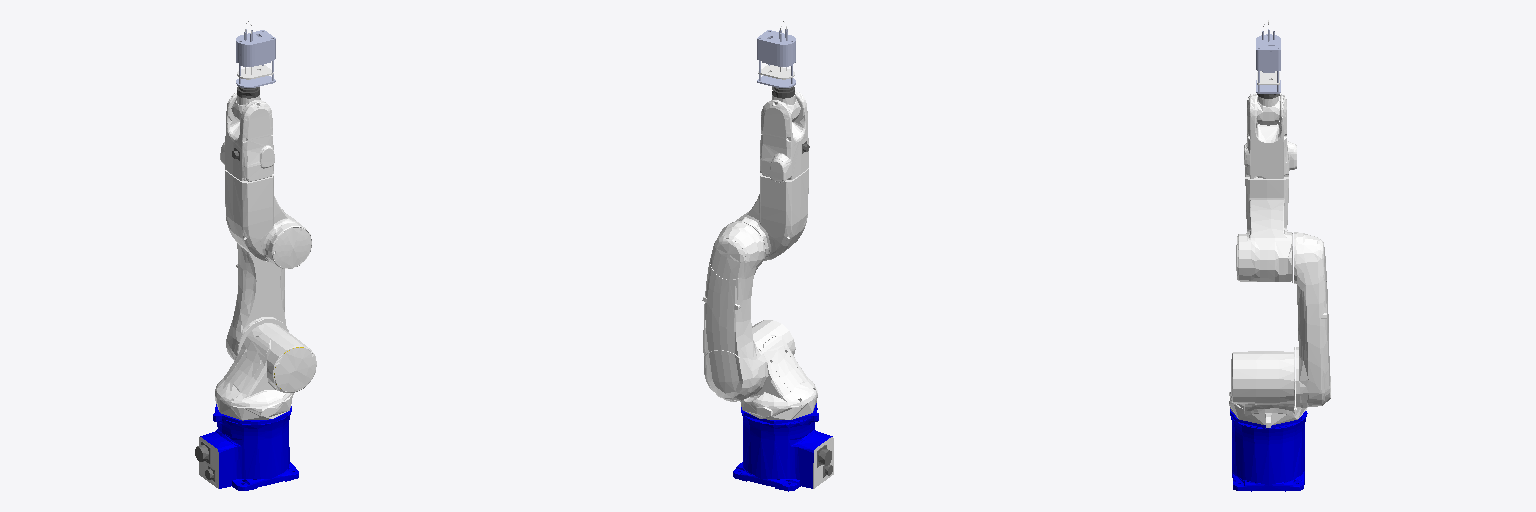
URDF robot description (add_post_pro_depowdering):
<?xml version="1.0" ?>
<!-- =================================================================================== -->
<!-- |    This document was autogenerated by xacro from [local-path]/depowdering_ws/src/add_post_pro2/depowdering_aman/urdf/depowdering_gripper_robot.xacro | -->
<!-- |    EDITING THIS FILE BY HAND IS NOT RECOMMENDED                                 | -->
<!-- =================================================================================== -->
<robot name="add_post_pro_depowdering">
    <transmission name="trans_1">
        <type>transmission_interface/SimpleTransmission</type>
        <joint name="joint_1">
            <hardwareInterface>hardware_interface/PositionJointInterface</hardwareInterface>
        </joint>
        <actuator name="motor_1">
            <hardwareInterface>hardware_interface/PositionJointInterface</hardwareInterface>
            <mechanicalReduction>1</mechanicalReduction>
        </actuator>
    </transmission>
    <transmission name="trans_2">
        <type>transmission_interface/SimpleTransmission</type>
        <joint name="joint_2">
            <hardwareInterface>hardware_interface/PositionJointInterface</hardwareInterface>
        </joint>
        <actuator name="motor_2">
            <hardwareInterface>hardware_interface/PositionJointInterface</hardwareInterface>
            <mechanicalReduction>1</mechanicalReduction>
        </actuator>
    </transmission>
    <transmission name="trans_3">
        <type>transmission_interface/SimpleTransmission</type>
        <joint name="joint_3">
            <hardwareInterface>hardware_interface/PositionJointInterface</hardwareInterface>
        </joint>
        <actuator name="motor_3">
            <hardwareInterface>hardware_interface/PositionJointInterface</hardwareInterface>
            <mechanicalReduction>1</mechanicalReduction>
        </actuator>
    </transmission>
    <transmission name="trans_4">
        <type>transmission_interface/SimpleTransmission</type>
        <joint name="joint_4">
            <hardwareInterface>hardware_interface/PositionJointInterface</hardwareInterface>
        </joint>
        <actuator name="motor_4">
            <hardwareInterface>hardware_interface/PositionJointInterface</hardwareInterface>
            <mechanicalReduction>1</mechanicalReduction>
        </actuator>
    </transmission>
    <transmission name="trans_5">
        <type>transmission_interface/SimpleTransmission</type>
        <joint name="joint_5">
            <hardwareInterface>hardware_interface/PositionJointInterface</hardwareInterface>
        </joint>
        <actuator name="motor_5">
            <hardwareInterface>hardware_interface/PositionJointInterface</hardwareInterface>
            <mechanicalReduction>1</mechanicalReduction>
        </actuator>
    </transmission>
    <transmission name="trans_6">
        <type>transmission_interface/SimpleTransmission</type>
        <joint name="joint_6">
            <hardwareInterface>hardware_interface/PositionJointInterface</hardwareInterface>
        </joint>
        <actuator name="motor_6">
            <hardwareInterface>hardware_interface/PositionJointInterface</hardwareInterface>
            <mechanicalReduction>1</mechanicalReduction>
        </actuator>
    </transmission>
    <transmission name="trans_gripper_Joint">
        <type>transmission_interface/SimpleTransmission</type>
        <joint name="gripper_Joint">
            <hardwareInterface>hardware_interface/EffortJointInterface</hardwareInterface>
        </joint>
        <actuator name="gripper_Joint_motor">
            <hardwareInterface>hardware_interface/EffortJointInterface</hardwareInterface>
            <mechanicalReduction>1</mechanicalReduction>
        </actuator>
    </transmission>
    <gazebo>
        <plugin filename="libgazebo_ros_control.so" name="gazebo_ros_control">
            <robotNamespace>/add_post_pro_depowdering</robotNamespace>
        </plugin>
    </gazebo>
    <link name="world" />
    <joint name="joint_w" type="fixed">
        <parent link="world" />
        <child link="base_link" />
        <origin xyz="0 0 0" />
    </joint>
    <link name="base_link">
        <visual>
            <origin rpy="0 0 0" xyz="0 0 0" />
            <geometry>
                <mesh filename="package://denso_robot_descriptions/vs6577_description/meshes/base_link.dae" scale="1 1 1" />
            </geometry>
        </visual>
        <collision>
            <origin rpy="0 0 0" xyz="0 0 0" />
            <geometry>
                <mesh filename="package://denso_robot_descriptions/vs6577_description/meshes/base_link.dae" scale="1 1 1" />
            </geometry>
        </collision>
        <inertial>
            <mass value="1" />
            <origin rpy="0.000000 0.000000 0.000000" xyz="0.000000 0.000000 0.000000" />
            <inertia ixx="1" ixy="0" ixz="0" iyy="1" iyz="0" izz="1" />
        </inertial>
    </link>
    <link name="J1">
        <visual>
            <origin rpy="0 0 0" xyz="0 0 0" />
            <geometry>
                <mesh filename="package://denso_robot_descriptions/vs6577_description/meshes/J1.dae" scale="1 1 1" />
            </geometry>
        </visual>
        <collision>
            <origin rpy="0 0 0" xyz="0 0 0" />
            <geometry>
                <mesh filename="package://denso_robot_descriptions/vs6577_description/meshes/J1.dae" scale="1 1 1" />
            </geometry>
        </collision>
        <inertial>
            <mass value="1" />
            <origin rpy="0.000000 0.000000 0.000000" xyz="0.000000 0.000000 0.000000" />
            <inertia ixx="1" ixy="0" ixz="0" iyy="1" iyz="0" izz="1" />
        </inertial>
    </link>
    <link name="J2">
        <visual>
            <origin rpy="0 0 0" xyz="0 0 0" />
            <geometry>
                <mesh filename="package://denso_robot_descriptions/vs6577_description/meshes/J2.dae" scale="1 1 1" />
            </geometry>
        </visual>
        <collision>
            <origin rpy="0 0 0" xyz="0 0 0" />
            <geometry>
                <mesh filename="package://denso_robot_descriptions/vs6577_description/meshes/J2.dae" scale="1 1 1" />
            </geometry>
        </collision>
        <inertial>
            <mass value="1" />
            <origin rpy="0.000000 0.000000 0.000000" xyz="0.000000 0.000000 0.000000" />
            <inertia ixx="1" ixy="0" ixz="0" iyy="1" iyz="0" izz="1" />
        </inertial>
    </link>
    <link name="J3">
        <visual>
            <origin rpy="0 0 0" xyz="0 0 0" />
            <geometry>
                <mesh filename="package://denso_robot_descriptions/vs6577_description/meshes/J3.dae" scale="1 1 1" />
            </geometry>
        </visual>
        <collision>
            <origin rpy="0 0 0" xyz="0 0 0" />
            <geometry>
                <mesh filename="package://denso_robot_descriptions/vs6577_description/meshes/J3.dae" scale="1 1 1" />
            </geometry>
        </collision>
        <inertial>
            <mass value="1" />
            <origin rpy="0.000000 0.000000 0.000000" xyz="0.000000 0.000000 0.000000" />
            <inertia ixx="1" ixy="0" ixz="0" iyy="1" iyz="0" izz="1" />
        </inertial>
    </link>
    <link name="J4">
        <visual>
            <origin rpy="0 0 0" xyz="0 0 0" />
            <geometry>
                <mesh filename="package://denso_robot_descriptions/vs6577_description/meshes/J4.dae" scale="1 1 1" />
            </geometry>
        </visual>
        <collision>
            <origin rpy="0 0 0" xyz="0 0 0" />
            <geometry>
                <mesh filename="package://denso_robot_descriptions/vs6577_description/meshes/J4.dae" scale="1 1 1" />
            </geometry>
        </collision>
        <inertial>
            <mass value="1" />
            <origin rpy="0.000000 0.000000 0.000000" xyz="0.000000 0.000000 0.000000" />
            <inertia ixx="1" ixy="0" ixz="0" iyy="1" iyz="0" izz="1" />
        </inertial>
    </link>
    <link name="J5">
        <visual>
            <origin rpy="0 0 0" xyz="0 0 0" />
            <geometry>
                <mesh filename="package://denso_robot_descriptions/vs6577_description/meshes/J5.dae" scale="1 1 1" />
            </geometry>
        </visual>
        <collision>
            <origin rpy="0 0 0" xyz="0 0 0" />
            <geometry>
                <mesh filename="package://denso_robot_descriptions/vs6577_description/meshes/J5.dae" scale="1 1 1" />
            </geometry>
        </collision>
        <inertial>
            <mass value="1" />
            <origin rpy="0.000000 0.000000 0.000000" xyz="0.000000 0.000000 0.000000" />
            <inertia ixx="1" ixy="0" ixz="0" iyy="1" iyz="0" izz="1" />
        </inertial>
    </link>
    <link name="J6">
        <visual>
            <origin rpy="0 0 0" xyz="0 0 0" />
            <geometry>
                <mesh filename="package://denso_robot_descriptions/vs6577_description/meshes/J6.dae" scale="1 1 1" />
            </geometry>
        </visual>
        <collision>
            <origin rpy="0 0 0" xyz="0 0 0" />
            <geometry>
                <mesh filename="package://denso_robot_descriptions/vs6577_description/meshes/J6.dae" scale="1 1 1" />
            </geometry>
        </collision>
        <inertial>
            <mass value="1" />
            <origin rpy="0.000000 0.000000 0.000000" xyz="0.000000 0.000000 0.000000" />
            <inertia ixx="1" ixy="0" ixz="0" iyy="1" iyz="0" izz="1" />
        </inertial>
    </link>
    <gazebo reference="base_link">
        <material>Gazebo/CoM</material>
    </gazebo>
    <gazebo reference="J1">
        <material>Gazebo/White</material>
    </gazebo>
    <gazebo reference="J2">
        <material>Gazebo/White</material>
    </gazebo>
    <gazebo reference="J3">
        <material>Gazebo/White</material>
    </gazebo>
    <gazebo reference="J4">
        <material>Gazebo/White</material>
    </gazebo>
    <gazebo reference="J5">
        <material>Gazebo/White</material>
    </gazebo>
    <gazebo reference="J6">
        <material>Gazebo/White</material>
    </gazebo>
    <gazebo>
        <gravity>False</gravity>
    </gazebo>
    <joint name="joint_1" type="revolute">
        <parent link="base_link" />
        <child link="J1" />
        <origin rpy="0.000000 0.000000 0.000000" xyz="0.000000 0.000000 0.000000" />
        <axis xyz="-0.000000 -0.000000 1.000000" />
        <limit effort="100" lower="-2.96706" upper="2.96706" velocity="1" />
        <dynamics damping="0" friction="0" />
    </joint>
    <joint name="joint_2" type="revolute">
        <parent link="J1" />
        <child link="J2" />
        <origin rpy="0.000000 0.000000 0.000000" xyz="0.075000 0.000000 0.335000" />
        <axis xyz="-0.000000 1.000000 -0.000000" />
        <limit effort="100" lower="-1.745329" upper="2.356194" velocity="1" />
        <dynamics damping="0" friction="0" />
    </joint>
    <joint name="joint_3" type="revolute">
        <parent link="J2" />
        <child link="J3" />
        <origin rpy="0.000000 0.000000 0.000000" xyz="0.000000 0.000000 0.365000" />
        <axis xyz="-0.000000 1.000000 -0.000000" />
        <limit effort="100" lower="-2.076942" upper="2.949606" velocity="1" />
        <dynamics damping="0" friction="0" />
    </joint>
    <joint name="joint_4" type="revolute">
        <parent link="J3" />
        <child link="J4" />
        <origin rpy="0.000000 0.000000 0.000000" xyz="-0.090000 0.000000 -0.700000" />
        <axis xyz="-0.000000 -0.000000 1.000000" />
        <limit effort="100" lower="-3.316126" upper="3.316126" velocity="1" />
        <dynamics damping="0" friction="0" />
    </joint>
    <joint name="joint_5" type="revolute">
        <parent link="J4" />
        <child link="J5" />
        <origin rpy="0.000000 0.000000 0.000000" xyz="0.000000 0.000000 1.105000" />
        <axis xyz="-0.000000 1.000000 -0.000000" />
        <limit effort="100" lower="-2.094395" upper="2.094395" velocity="1" />
        <dynamics damping="0" friction="0" />
    </joint>
    <joint name="joint_6" type="revolute">
        <parent link="J5" />
        <child link="J6" />
        <origin rpy="0.000000 0.000000 0.000000" xyz="0.000000 0.000000 0.080000" />
        <axis xyz="-0.000000 -0.000000 1.000000" />
        <limit effort="100" lower="-6.283185" upper="6.283185" velocity="1" />
        <dynamics damping="0" friction="0" />
    </joint>
    <!--########### adding the gripper ########### -->
    <link name="gripper_base_link">
        <inertial>
            <origin rpy="0 0 0" xyz="-0.019922 7.2898E-05 0.077395" />
            <mass value="1.3258" />
            <inertia ixx="0.0035252" ixy="2.2645E-06" ixz="-3.673E-05" iyy="0.0042085" iyz="-5.1365E-06" izz="0.0020359" />
        </inertial>
        <visual>
            <origin rpy="0 0 0" xyz="0 0 0" />
            <geometry>
                <mesh filename="package://add_post_pro_simulation/mesh/gripper_base_link.STL" />
            </geometry>
            <material name="">
                <color rgba="0.79216 0.81961 0.93333 1" />
            </material>
        </visual>
        <collision>
            <origin rpy="0 0 0" xyz="0 0 0" />
            <geometry>
                <mesh filename="package://add_post_pro_simulation/mesh/gripper_base_link.STL" />
            </geometry>
        </collision>
    </link>

    <link name="gripper_Link">
        <inertial>
            <origin rpy="0 0 0" xyz="-0.0195 0.00014702 0.002743" />
            <mass value="0.027698" />
            <inertia ixx="9.9675E-06" ixy="7.5503E-08" ixz="-2.2624E-07" iyy="2.0524E-05" iyz="1.7057E-09" izz="2.7839E-05" />
        </inertial>
        <visual>
            <origin rpy="0 0 0" xyz="0 0 0" />
            <geometry>
                <mesh filename="package://add_post_pro_simulation/mesh/gripper_Link.STL" />
            </geometry>
            <material name="">
                <color rgba="1 1 1 1" />
            </material>
        </visual>
        <!-- <collision>
            <origin rpy="0 0 0" xyz="0 0 0" />
            <geometry>
                <mesh filename="package://add_post_pro_simulation/mesh/gripper_Link.STL" />
            </geometry>
        </collision> -->
    </link>

    <joint name="gripper_base_Joint" type="fixed">
        <origin rpy="0 0 3.14" xyz="0 0 0.004" />
        <parent link="J6" />
        <child link="gripper_base_link" />
        <axis xyz="0 0 -1" />
    </joint>

    <joint name="gripper_Joint" type="prismatic">
        <origin rpy="0 0 0.0" xyz="0 0 0.02565" />
        <parent link="gripper_base_link" />
        <child link="gripper_Link" />
        <axis xyz="0 0 -1" />
        <limit effort="1" lower="0" upper="0.021" velocity="1" />
    </joint>

    <gazebo reference="gripper_base_link">
		<material>Gazebo/Gray</material>
	</gazebo>
	<gazebo reference="gripper_Link">
		<material>Gazebo/Gray</material>
	</gazebo>
    <!--########### end of adding the gripper ########### -->
    
    
</robot>

--- What the picture shows (computed from the rendered views, not written in the file) ---
3 views of the same robot in one strip: view 1: azimuth 30°, elevation 25°; view 2: azimuth 150°, elevation 25°; view 3: azimuth 270°, elevation 25° (orthographic).
Robot: add_post_pro_depowdering — 10 links, 9 joints (6 revolute, 1 prismatic, 2 fixed); root link world; default pose: every joint at zero.
Visible links, largest first — view 1: J1, base_link, J3, J4, J2, gripper_base_link; view 2: J2, base_link, J1, J3, J4, gripper_base_link; view 3: J2, base_link, J3, J1, J4, gripper_base_link, J5.
Link boxes in pixels (x1,y1,x2,y2): J1: (215,319,316,420); base_link: (195,404,298,490); J3: (225,170,311,268); J4: (220,92,274,181); J2: (226,243,286,360); gripper_base_link: (236,29,275,87); J2: (702,222,768,401); base_link: (733,403,833,491); J1: (740,320,817,419); J3: (732,168,808,260); J4: (760,90,809,182); gripper_base_link: (757,29,795,87); J2: (1294,232,1330,408); base_link: (1230,409,1307,491); J3: (1236,177,1292,282); J1: (1229,347,1307,427); J4: (1244,94,1296,178); gripper_base_link: (1256,29,1280,93); J5: (1257,94,1279,125).
Bounding box of the posed robot: 0.3298 × 0.2828 × 1.38 m (x, y, z).
Meshes: 9 distinct files referenced, 9 mesh visuals loaded (2 binary STL, 7 Collada DAE).
